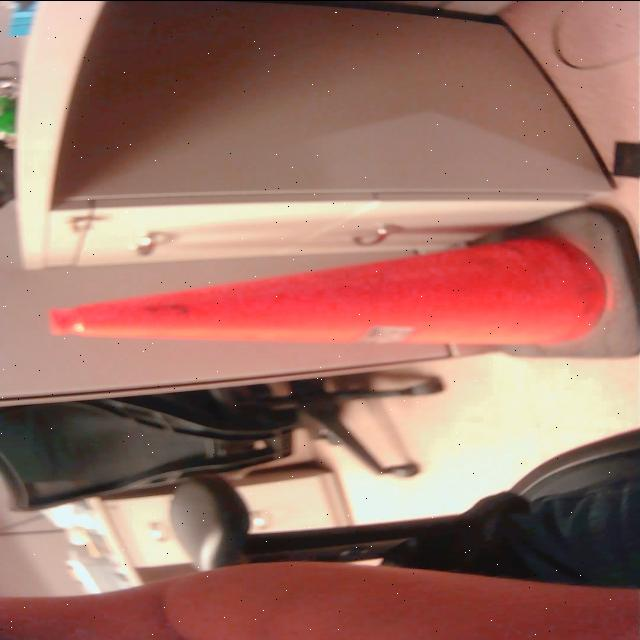traffic cone: (34, 199, 640, 367)
